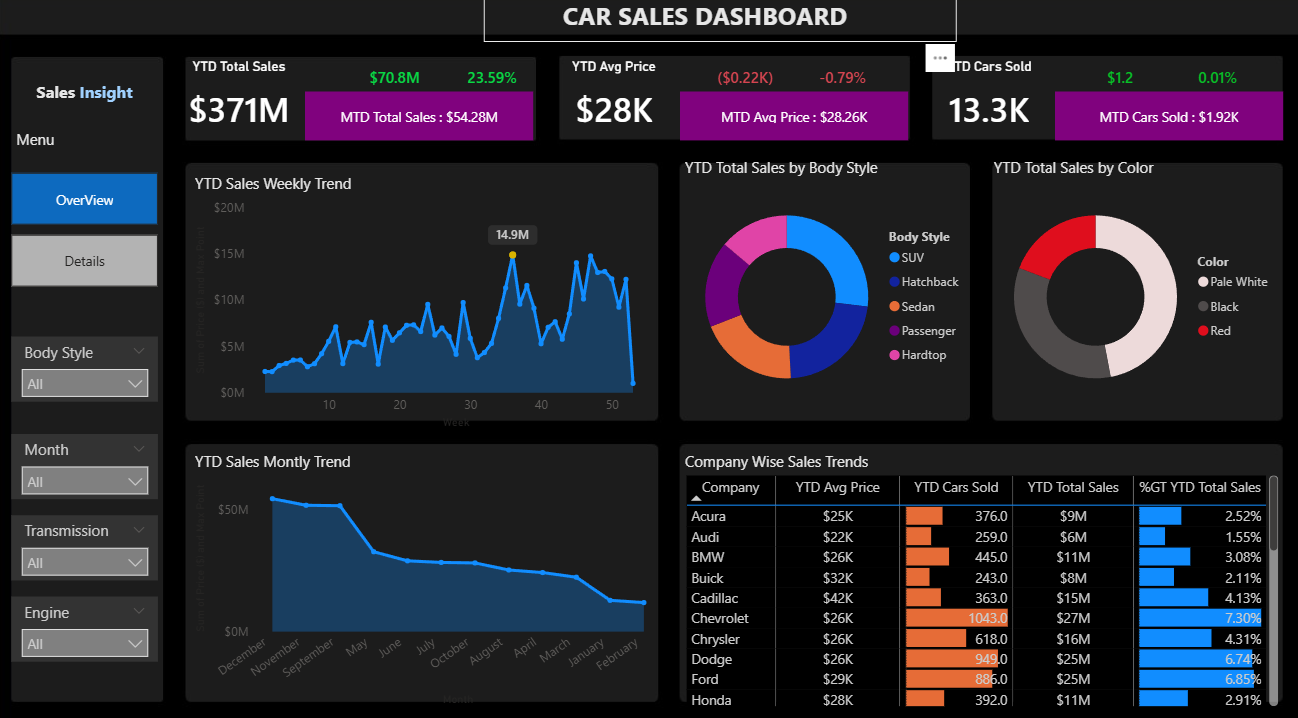

This screenshot's page, from the dashboard's own definition file:
{"tool":"powerbi","page":{"name":"OverView","canvas":[1280,720],"ordinal":0},"visuals":[{"type":"cardVisual","title":"YTD Total Sales","fields":{"Data":["car_data.YTD Total Sales"]},"box":[160,64,160,80],"z":0},{"type":"cardVisual","fields":{"Data":["car_data.Sales Difference"]},"box":[336,48,112,64],"z":1000},{"type":"cardVisual","fields":{"Data":["car_data.YOY Sales Growth"]},"box":[432,48,112,64],"z":2000},{"type":"cardVisual","fields":{"Data":["car_data.MTD KPI"]},"box":[304,96,224,48],"z":3000},{"type":"cardVisual","title":"YTD Avg Price","fields":{"Data":["car_data.YTD Avg Price","car_data.YTD Avg Price"]},"box":[528,64,160,80],"z":4000},{"type":"cardVisual","fields":{"Data":["car_data.Avg Price Difference"]},"box":[672,48,128,64],"z":5000},{"type":"cardVisual","fields":{"Data":["car_data.YOY Avg Price Growth"]},"box":[768,48,128,64],"z":6000},{"type":"cardVisual","fields":{"Data":["car_data.MTD Avg Price KPI"]},"box":[672,96,224,48],"z":7000},{"type":"cardVisual","title":"YTD Cars Sold","fields":{"Data":["car_data.YTD Cars Sold"]},"box":[896,64,160,80],"z":8000},{"type":"cardVisual","fields":{"Data":["car_data.Cars Sold Difference"]},"box":[1040,48,128,64],"z":9000},{"type":"cardVisual","fields":{"Data":["car_data.YOY Car Sold Growth"]},"box":[1136,48,128,64],"z":10000},{"type":"cardVisual","fields":{"Data":["car_data.MTD Cars Sold KPI"]},"box":[1040,96,224,48],"z":11000},{"type":"areaChart","title":"YTD Sales Weekly Trend","fields":{"Category":["Calender Table.Week"],"Y":["Sum(car_data.Price ($))","car_data.Max Point"]},"box":[192,176,464,256],"z":12000},{"type":"donutChart","fields":{"Category":["car_data.Body Style"],"Y":["car_data.YTD Total Sales"]},"box":[672,160,288,256],"z":13000},{"type":"donutChart","fields":{"Y":["car_data.YTD Total Sales"],"Category":["car_data.Color"]},"box":[976,160,288,256],"z":14000},{"type":"areaChart","title":"YTD Sales Montly Trend","fields":{"Y":["Sum(car_data.Price ($))","car_data.Max Point"],"Category":["Calender Table.Month"]},"box":[192,448,464,256],"z":15000},{"type":"tableEx","title":"Company Wise Sales Trends","fields":{"Values":["car_data.Company","car_data.YTD Avg Price","car_data.YTD Cars Sold","car_data.YTD Total Sales1","car_data.YTD Total Sales"]},"box":[672,448,592,256],"z":16000},{"type":"textbox","box":[480,0,464,48],"z":17000},{"type":"slicer","fields":{"Values":["car_data.Body Style"]},"box":[16,336,144,64],"z":18000},{"type":"slicer","fields":{"Values":["Calender Table.Month"]},"box":[16,432,144,64],"z":19000},{"type":"slicer","fields":{"Values":["car_data.Transmission"]},"box":[16,512,144,64],"z":20000},{"type":"slicer","fields":{"Values":["car_data.Engine"]},"box":[16,592,144,64],"z":21000},{"type":"textbox","box":[16,80,144,32],"z":22000},{"type":"textbox","box":[16,128,80,32],"z":23000},{"type":"pageNavigator","box":[16,176,144,112],"z":24000}]}

Visuals, with their boxes on the page's 1280x720 design canvas (x1, y1, x2, y2). These are canvas units, not pixel positions in the 1298x718 screenshot, which may show the page scaled, cropped or inside an application window:
"YTD Total Sales" cardVisual: (160, 64, 320, 144)
cardVisual - car_data.Sales Difference: (336, 48, 448, 112)
cardVisual - car_data.YOY Sales Growth: (432, 48, 544, 112)
cardVisual - car_data.MTD KPI: (304, 96, 528, 144)
"YTD Avg Price" cardVisual: (528, 64, 688, 144)
cardVisual - car_data.Avg Price Difference: (672, 48, 800, 112)
cardVisual - car_data.YOY Avg Price Growth: (768, 48, 896, 112)
cardVisual - car_data.MTD Avg Price KPI: (672, 96, 896, 144)
"YTD Cars Sold" cardVisual: (896, 64, 1056, 144)
cardVisual - car_data.Cars Sold Difference: (1040, 48, 1168, 112)
cardVisual - car_data.YOY Car Sold Growth: (1136, 48, 1264, 112)
cardVisual - car_data.MTD Cars Sold KPI: (1040, 96, 1264, 144)
"YTD Sales Weekly Trend" areaChart: (192, 176, 656, 432)
donutChart - car_data.Body Style x car_data.YTD Total Sales: (672, 160, 960, 416)
donutChart - car_data.YTD Total Sales x car_data.Color: (976, 160, 1264, 416)
"YTD Sales Montly Trend" areaChart: (192, 448, 656, 704)
"Company Wise Sales Trends" tableEx: (672, 448, 1264, 704)
textbox: (480, 0, 944, 48)
slicer - car_data.Body Style: (16, 336, 160, 400)
slicer - Calender Table.Month: (16, 432, 160, 496)
slicer - car_data.Transmission: (16, 512, 160, 576)
slicer - car_data.Engine: (16, 592, 160, 656)
textbox: (16, 80, 160, 112)
textbox: (16, 128, 96, 160)
pageNavigator: (16, 176, 160, 288)
